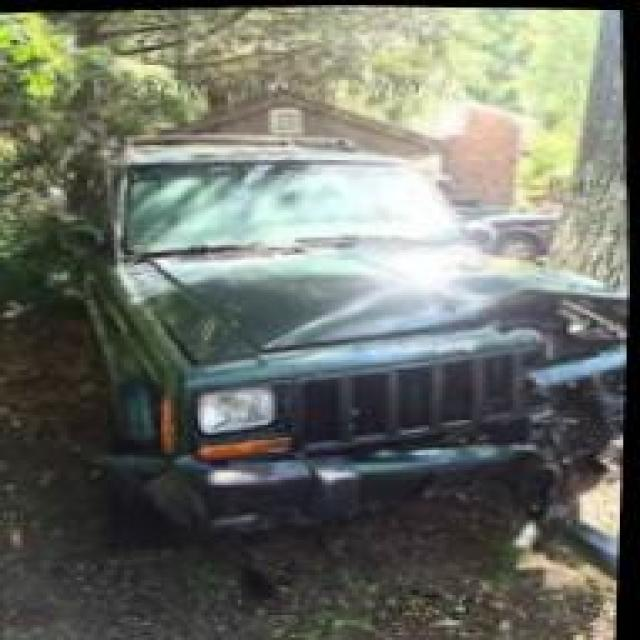Bonnet: (120, 234, 629, 356)
Bumper: (171, 402, 628, 534)
Light: (549, 292, 630, 441)
